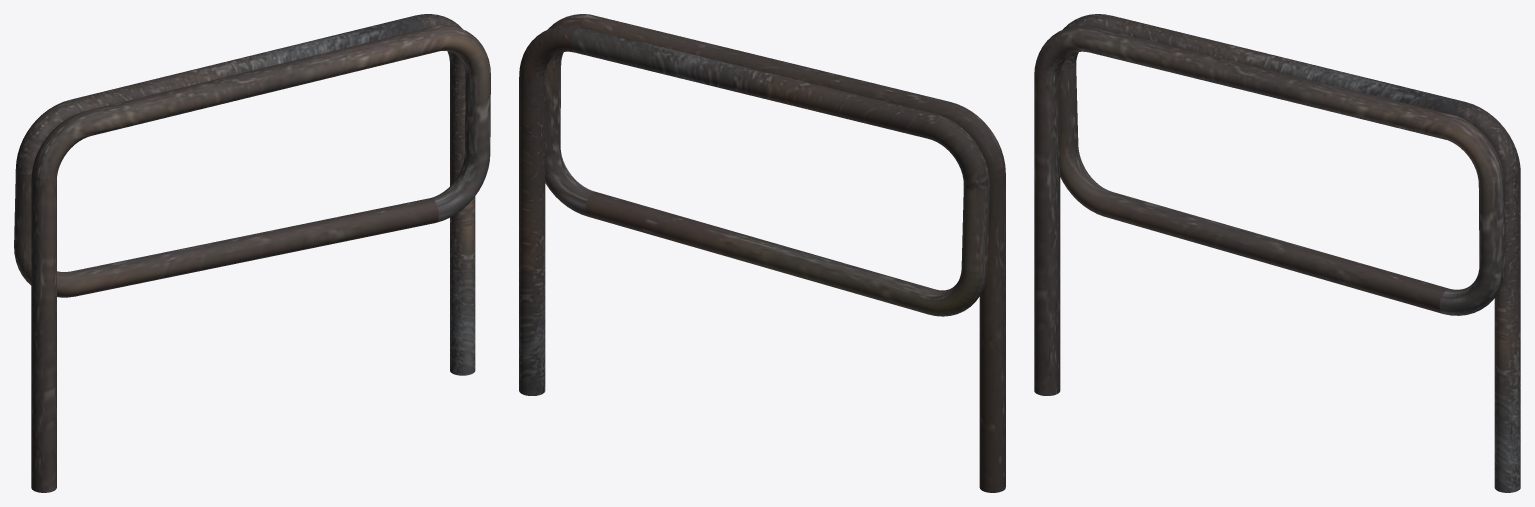
File: GrandeAttacheVelos.fbx
3 renders of one model, left to right at view 1: azimuth 30°, elevation 25°; view 2: azimuth 150°, elevation 25°; view 3: azimuth 330°, elevation 25°, orthographic. The views are drawn at different scales.
Parts seen in each view (by area): view 1: GrandeAttache; view 2: GrandeAttache; view 3: GrandeAttache.
Part boxes in pixels (box(x1,y1,x2,y2)): GrandeAttache: box(14, 14, 490, 492); GrandeAttache: box(519, 14, 1005, 492); GrandeAttache: box(1034, 14, 1520, 492).
Size of the model in its own units: 1.11 by 0.1275 by 0.8497.
Materials: 1 (1 with a texture image).
